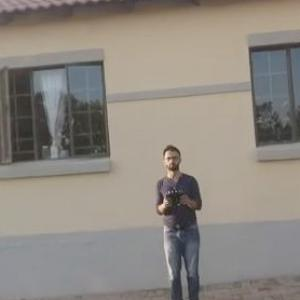follow: (150, 140, 207, 299)
